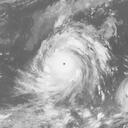cyclone: (30, 30, 90, 99), (117, 82, 127, 111)
